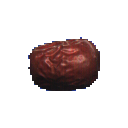gd: (17, 23, 110, 109)
